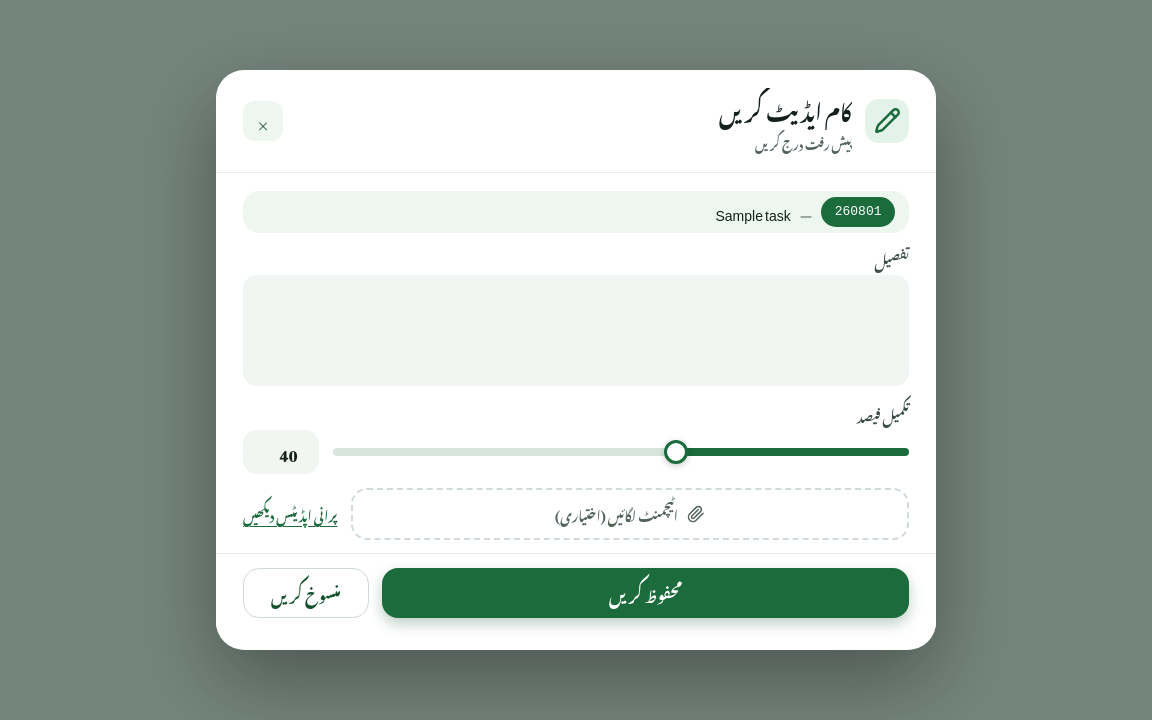
Test case: UpdateModal (docs/08-ui-ux.md §7, docs/09-frontend-features.md §3) › lazily fetches Previous Updates only after "Purani Updates dekhein" is clicked
Expected: the text "Sample task" is shown, [716,194,791,229]
Click the button "پرانی اپڈیٹس دیکھیں" at {"x": 290, "y": 514}, box [243,492,337,536]
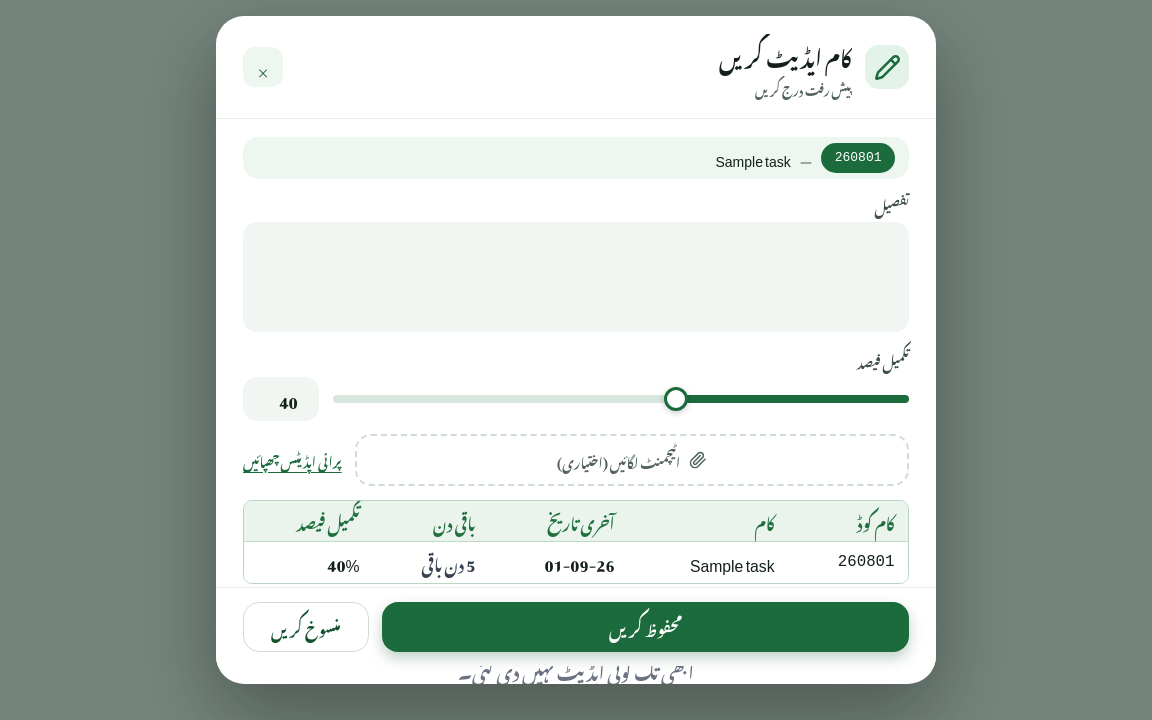
Result: the button "پرانی اپڈیٹس چھپائیں" is shown at [243,438,342,482]
